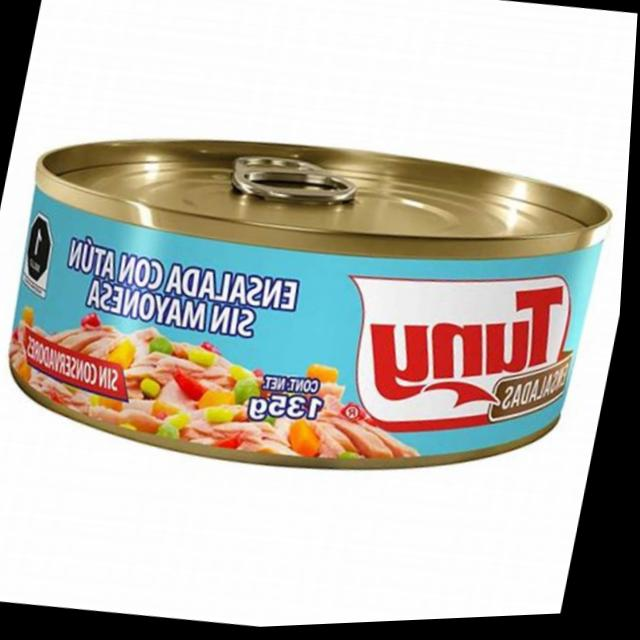Lata: (0, 110, 615, 523)
